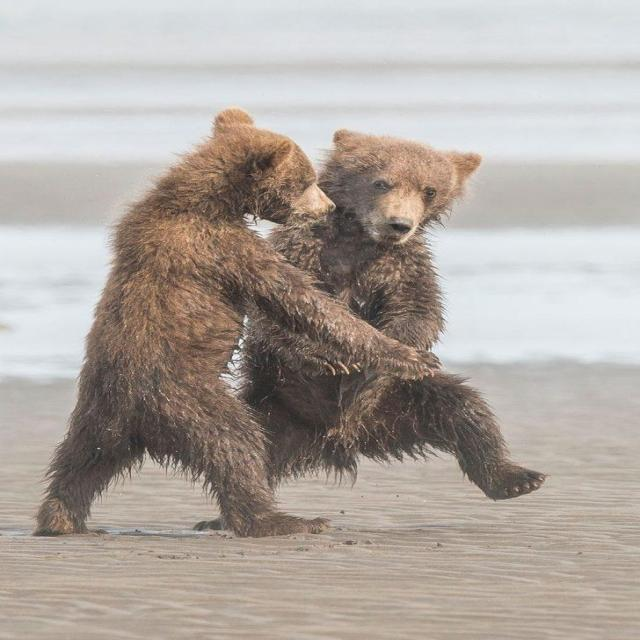Bear: (35, 109, 444, 540), (231, 130, 546, 501)
